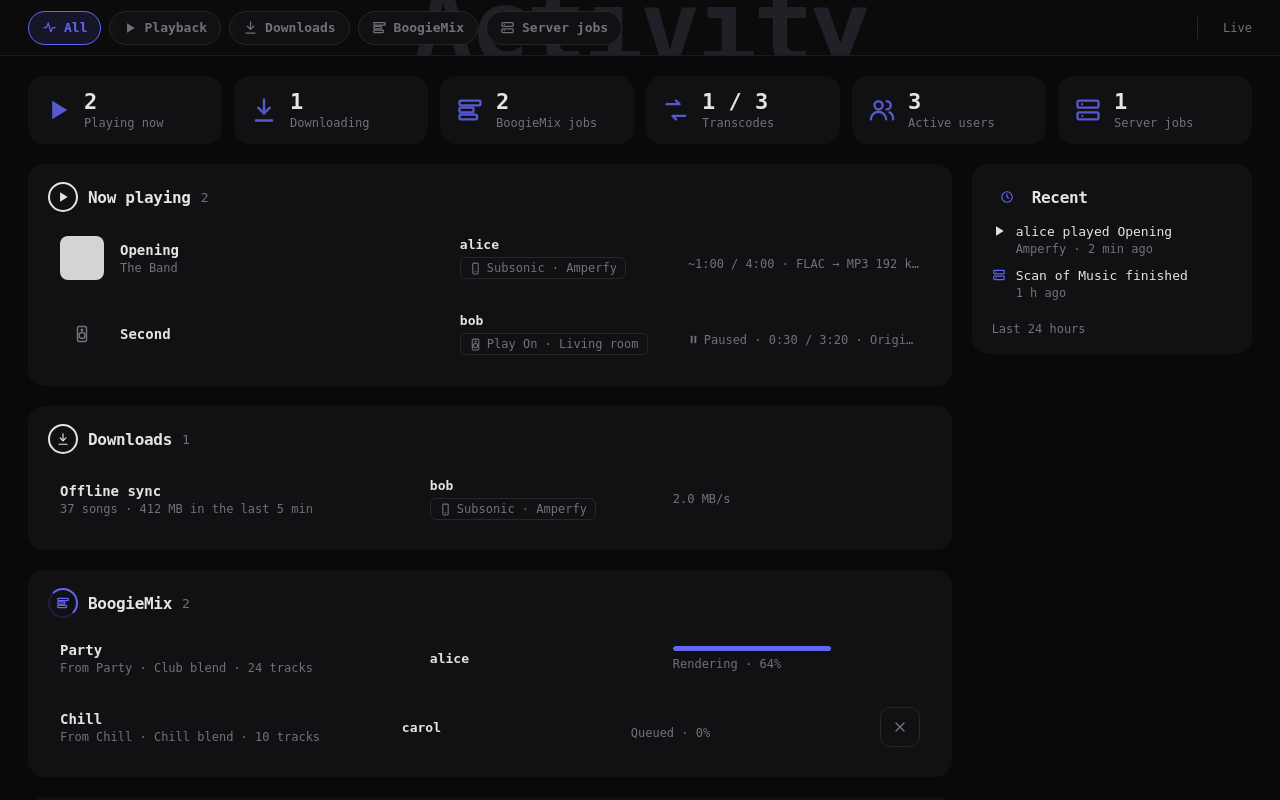
Scenario: ActivityView › filters sections with icon pills and remembers the choice
This screenshot has width=1280, height=800.
Step 1. Click the tab "Downloads" → {"x": 289, "y": 28}, box x1=229 y1=10 x2=350 y2=44
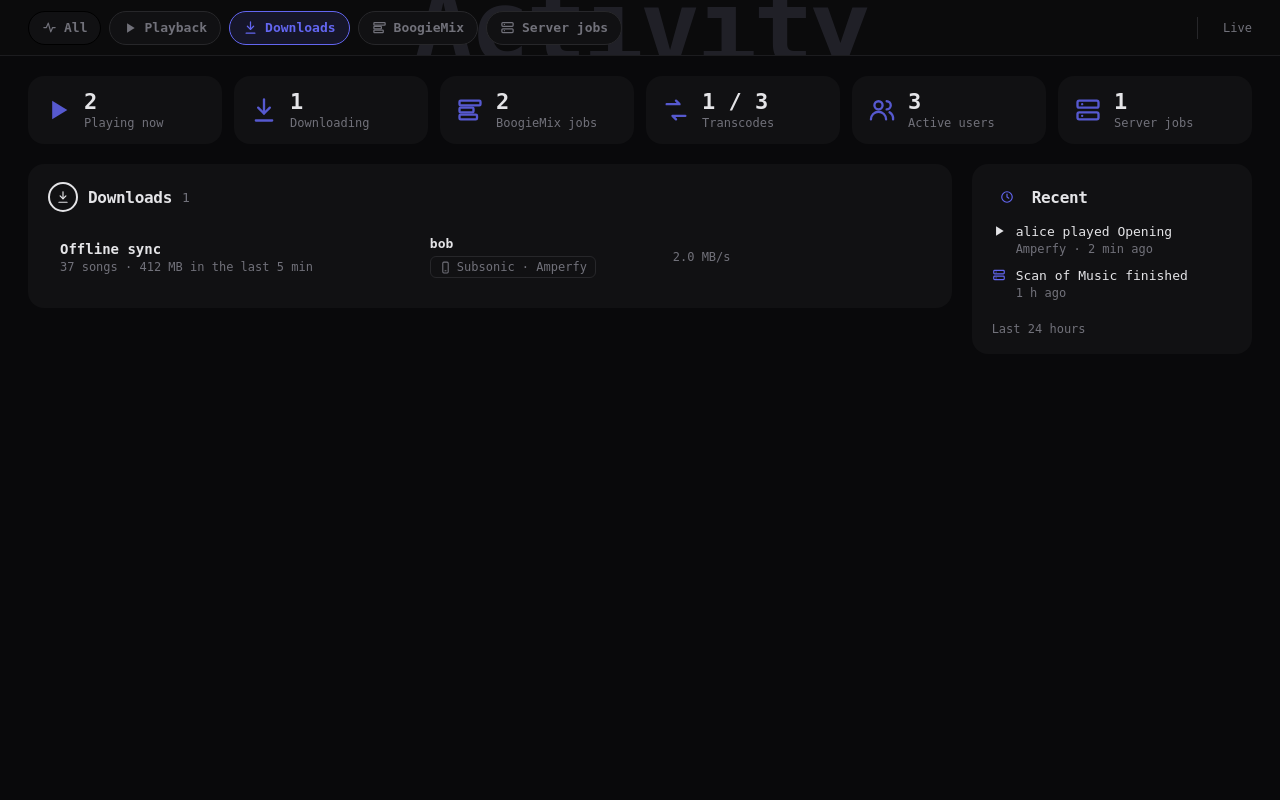
Expected: the list item with test id "activity-download-row" is shown, x1=60 y1=236 x2=730 y2=278
Now the list item with test id "activity-playing-row" is gone
Now the list item with test id "activity-mix-row" is gone
